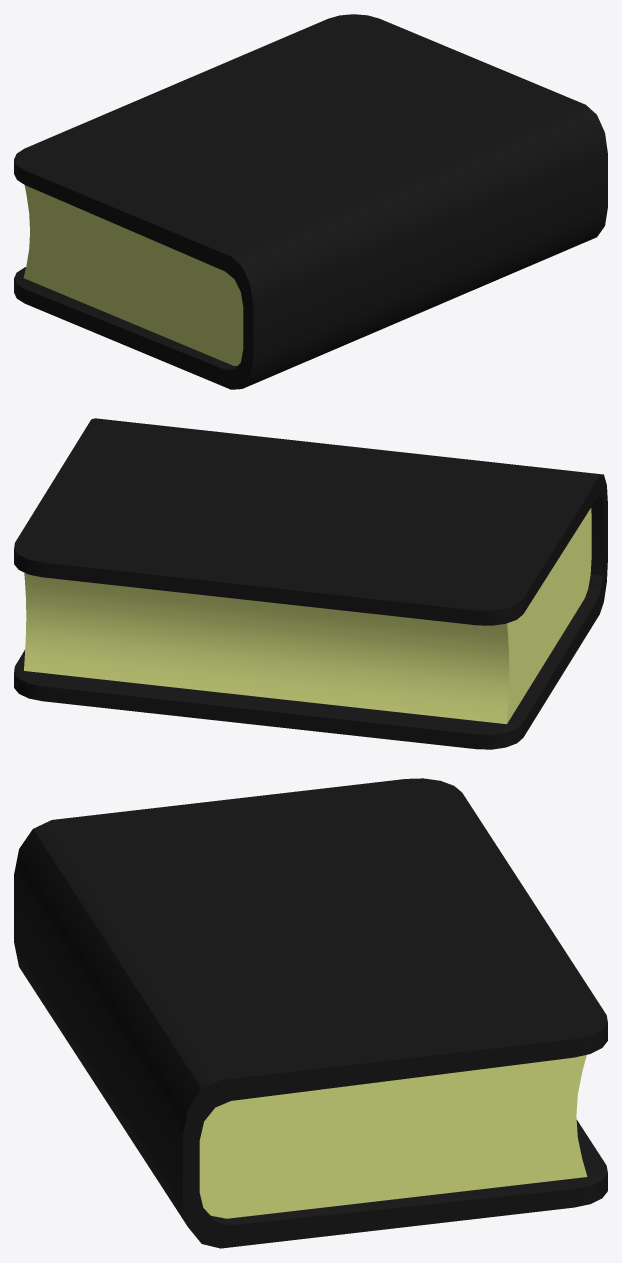
Rendered from Book.obj.
The picture shows the model from 3 angles, top to bottom: view 1: azimuth 30°, elevation 25°; view 2: azimuth 150°, elevation 25°; view 3: azimuth 270°, elevation 25°; orthographic projection. The views are drawn at different scales.
Visible parts, largest first — view 1: Book Books; view 2: Book Books; view 3: Book Books.
Boxes of the visible parts, bbox=[...] form: Book Books: bbox=[14, 14, 607, 389]; Book Books: bbox=[14, 418, 607, 749]; Book Books: bbox=[14, 778, 607, 1248].
Size of the model in its own units: 1.63 by 0.4173 by 1.33.
